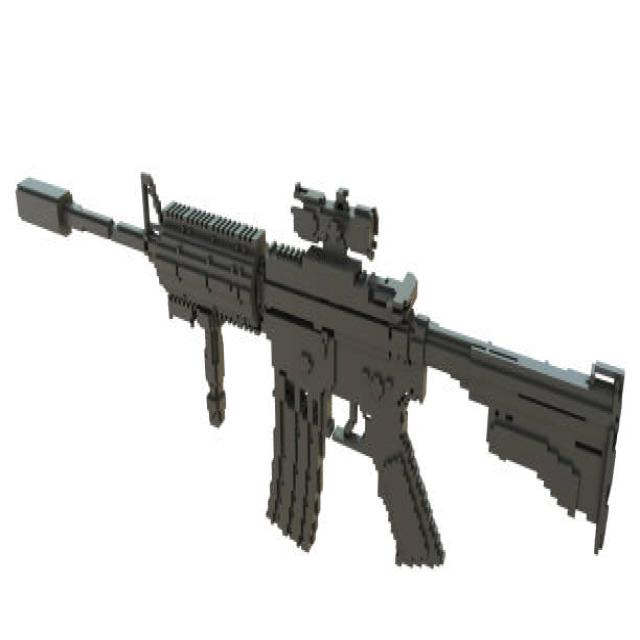rifle: (13, 154, 626, 579)
